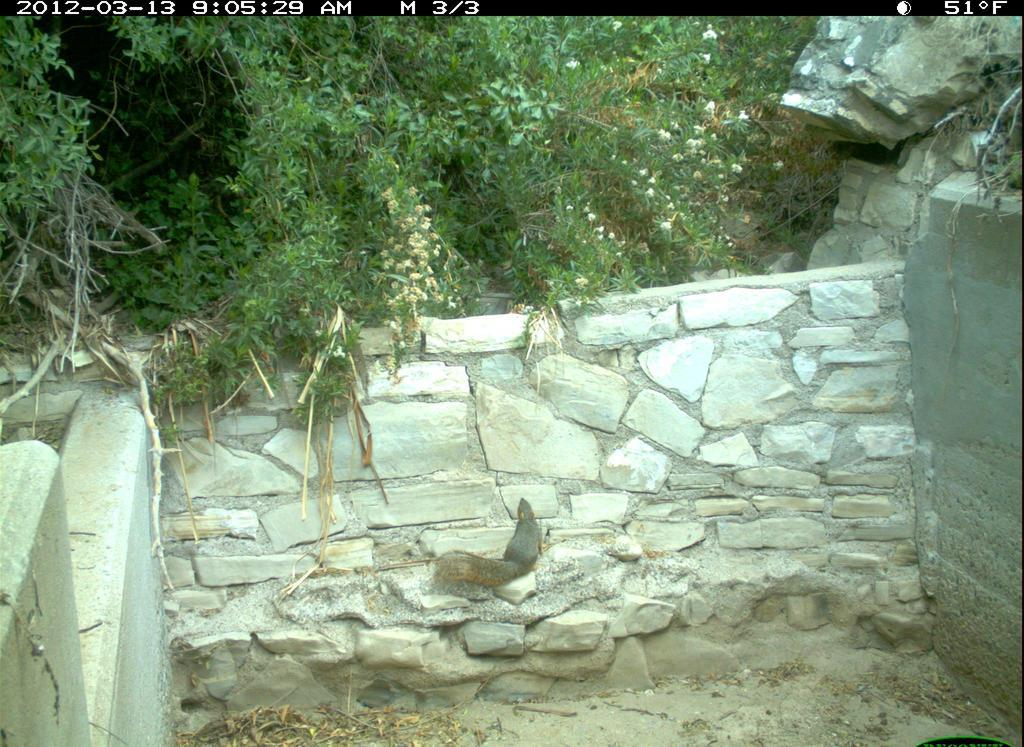squirrel: (433, 495, 539, 592)
